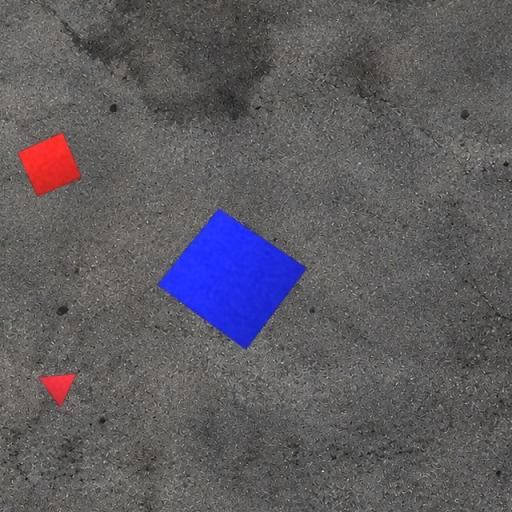BLUE_SQUARE: (157, 208, 308, 350)
RED_SQUARE: (17, 132, 82, 198)
